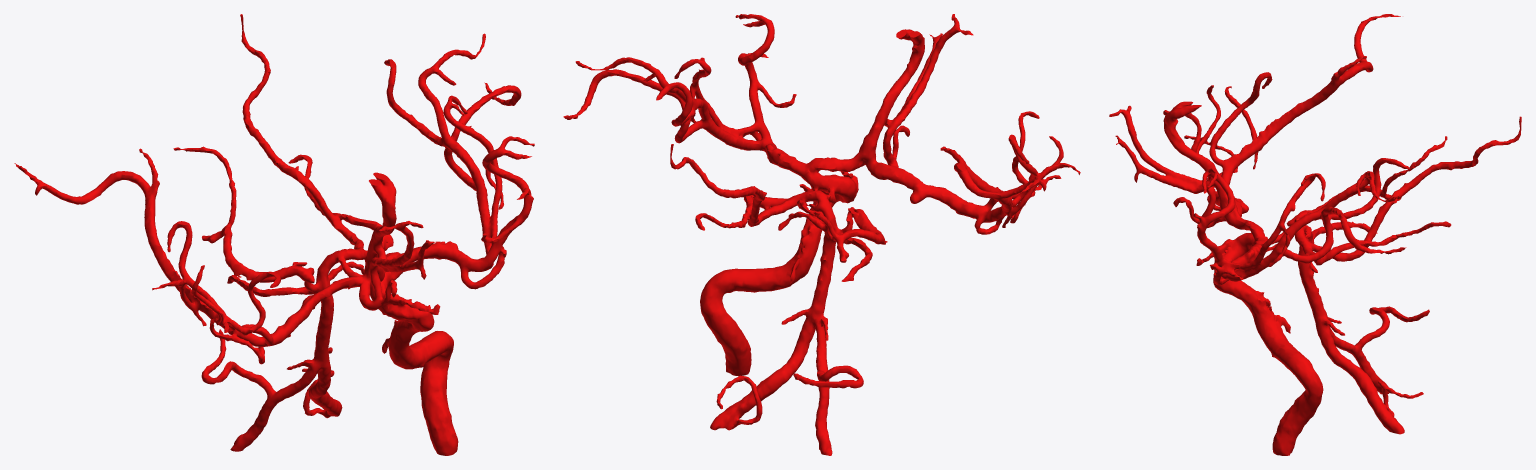
File: blood_vessel (1).glb
3 renders of one model, left to right at view 1: azimuth 30°, elevation 25°; view 2: azimuth 150°, elevation 25°; view 3: azimuth 270°, elevation 25°, orthographic. The views are drawn at different scales.
Parts seen in each view (by area): view 1: Object_2; view 2: Object_2; view 3: Object_2.
Part boxes in pixels (x1,y1,x2,y2): Object_2: (14,14,534,455); Object_2: (563,14,1080,455); Object_2: (1109,14,1521,455).
Size of the model in its own units: 130 by 92.7 by 111.
